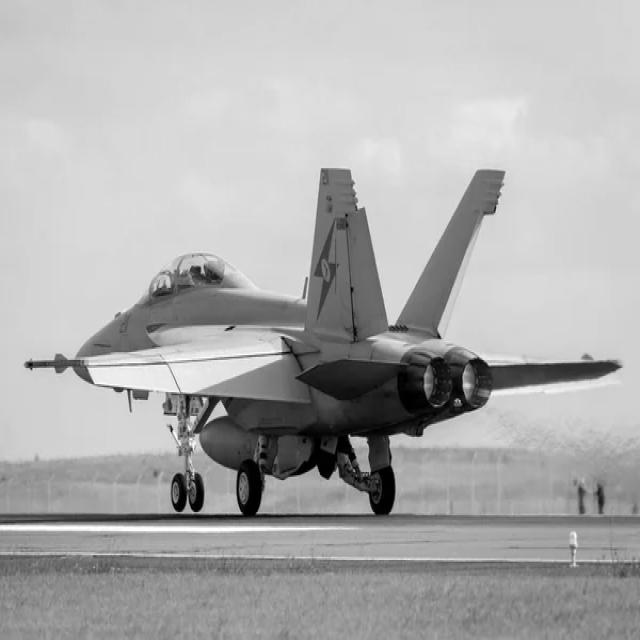Aircraft: (32, 160, 605, 519)
